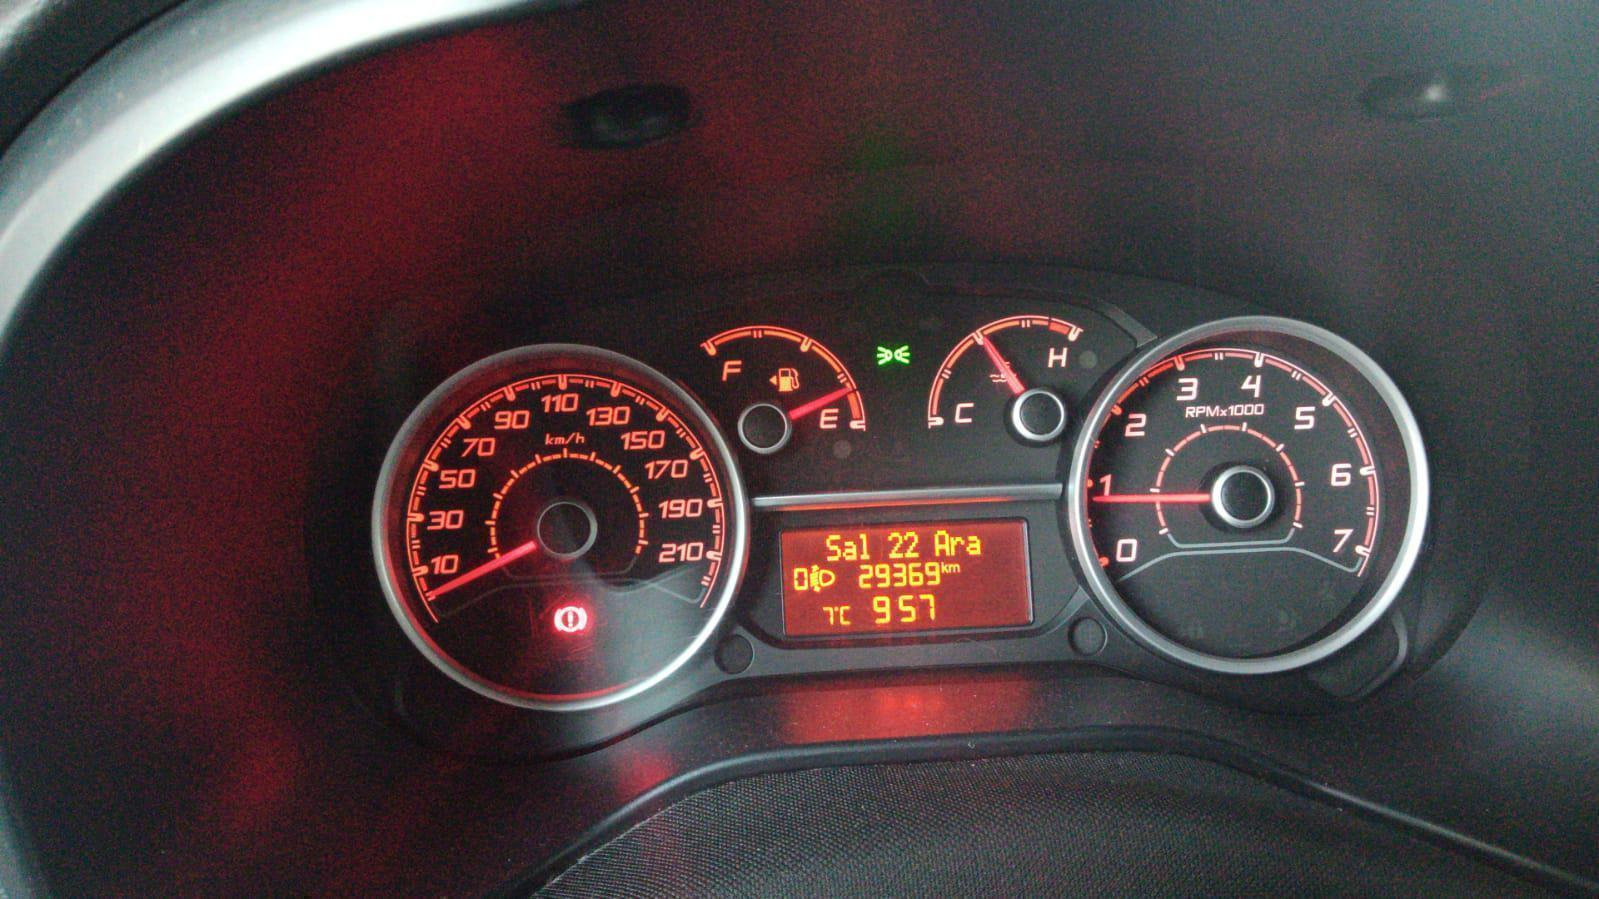0: (794, 565, 809, 589)
2: (904, 529, 921, 558), (858, 563, 874, 589), (888, 529, 903, 558)
3: (893, 560, 907, 588)
5: (897, 594, 917, 623)
6: (908, 560, 924, 587)
7: (919, 592, 937, 621), (821, 604, 834, 625)
9: (873, 595, 888, 625), (924, 560, 940, 586), (875, 562, 891, 587)
X: (824, 531, 841, 564), (858, 531, 873, 561), (933, 529, 950, 557), (842, 538, 858, 564), (966, 535, 983, 555), (950, 533, 964, 554), (839, 603, 851, 626), (948, 562, 960, 574), (940, 560, 948, 574)
odometer: (775, 515, 1038, 637)
